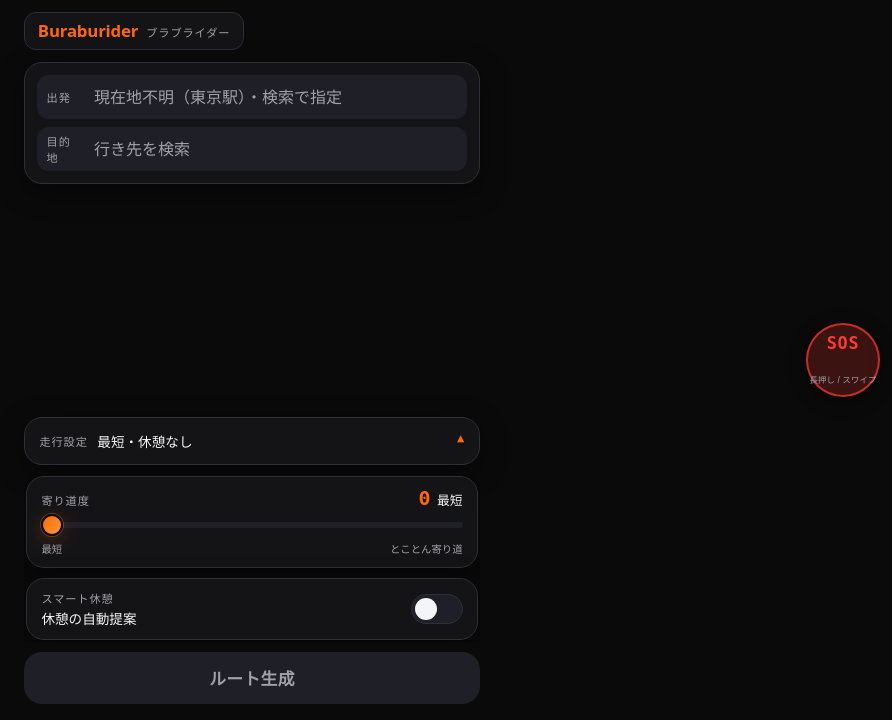
it: App（統合） › 目的地選択→生成ボタン活性→生成で結果パネルを表示
Note: 目的地を入力してサジェストから選択。
Type "富士" into the field named "目的地" at (275, 149), box [92,129,457,169]
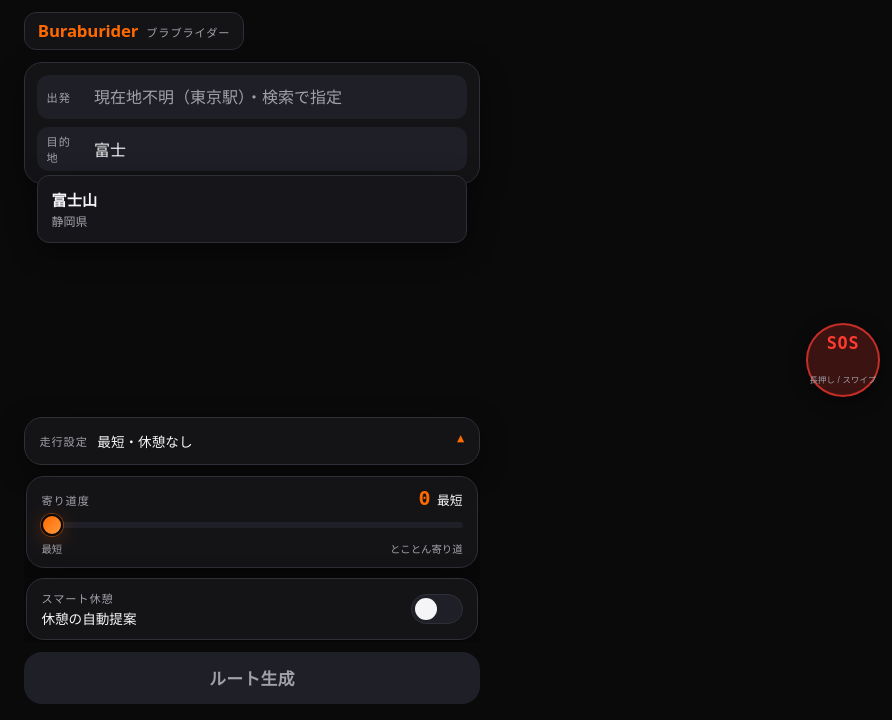
Click the button "富士山 静岡県" at (74, 200), box [42,180,462,238]
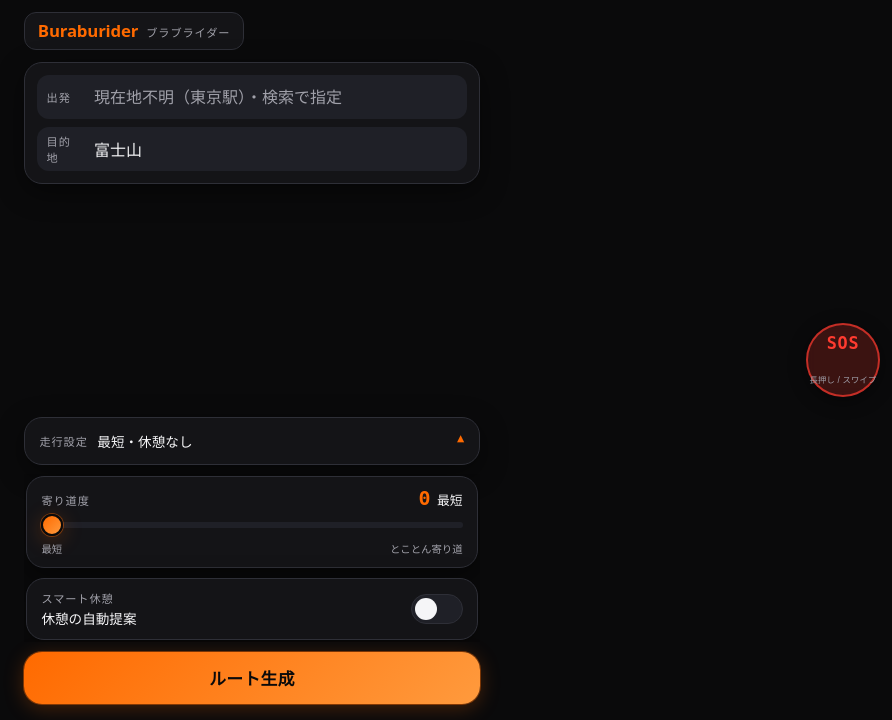
Result: the button "ルート生成" is enabled
Note: 生成でルート結果（距離・所要時間）が表示される。
Click the button "ルート生成" at (252, 678), box [24,652,480,704]
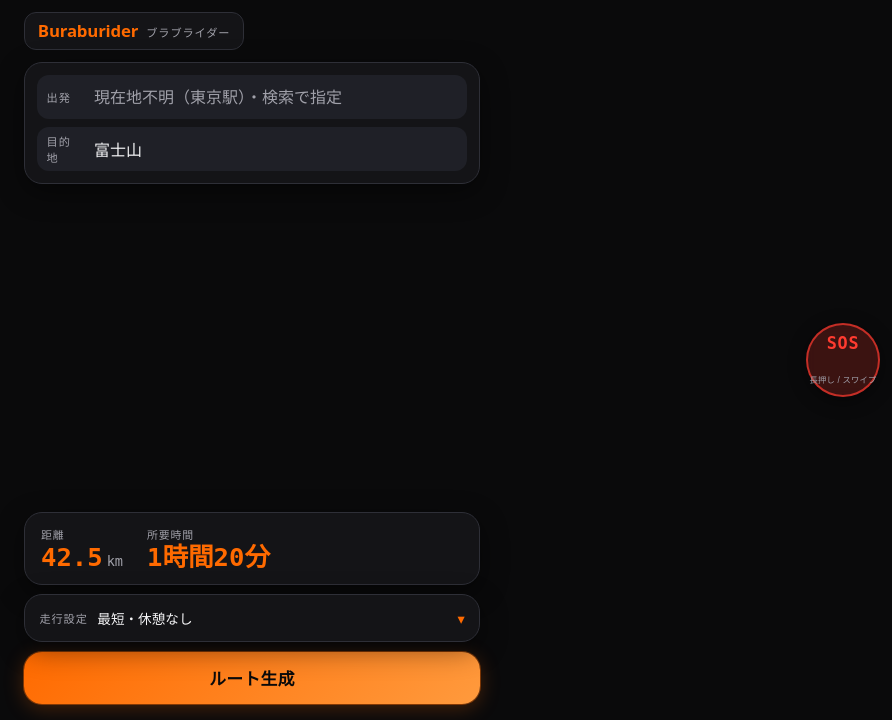
Result: the text "42.5" is shown at [41,545,103,570]
Result: the text "1時間20分" is shown at [147,545,270,570]
